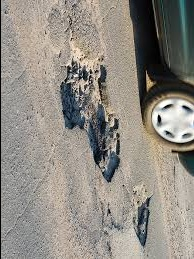pothole: (62, 48, 124, 181), (129, 184, 155, 248)
